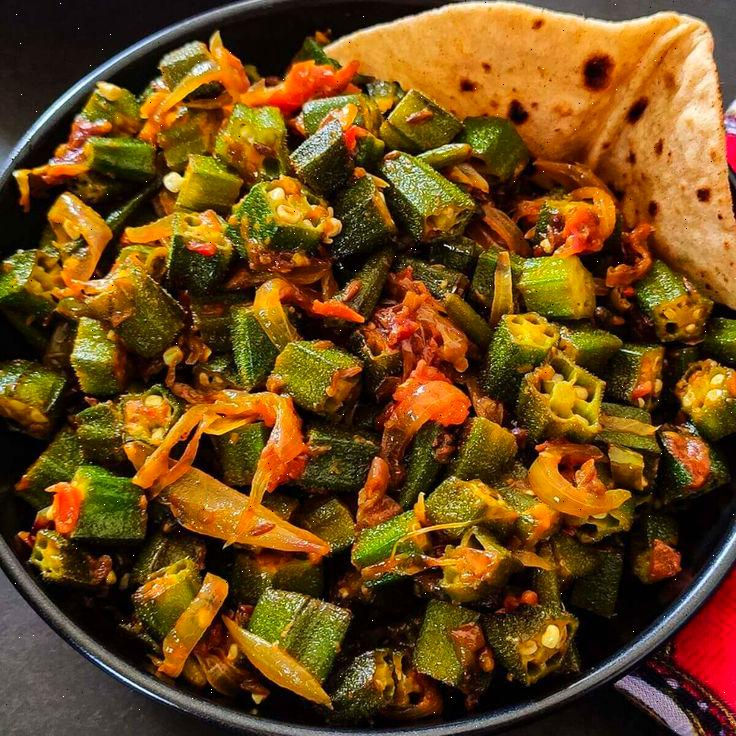bhindi: (45, 152, 594, 669)
